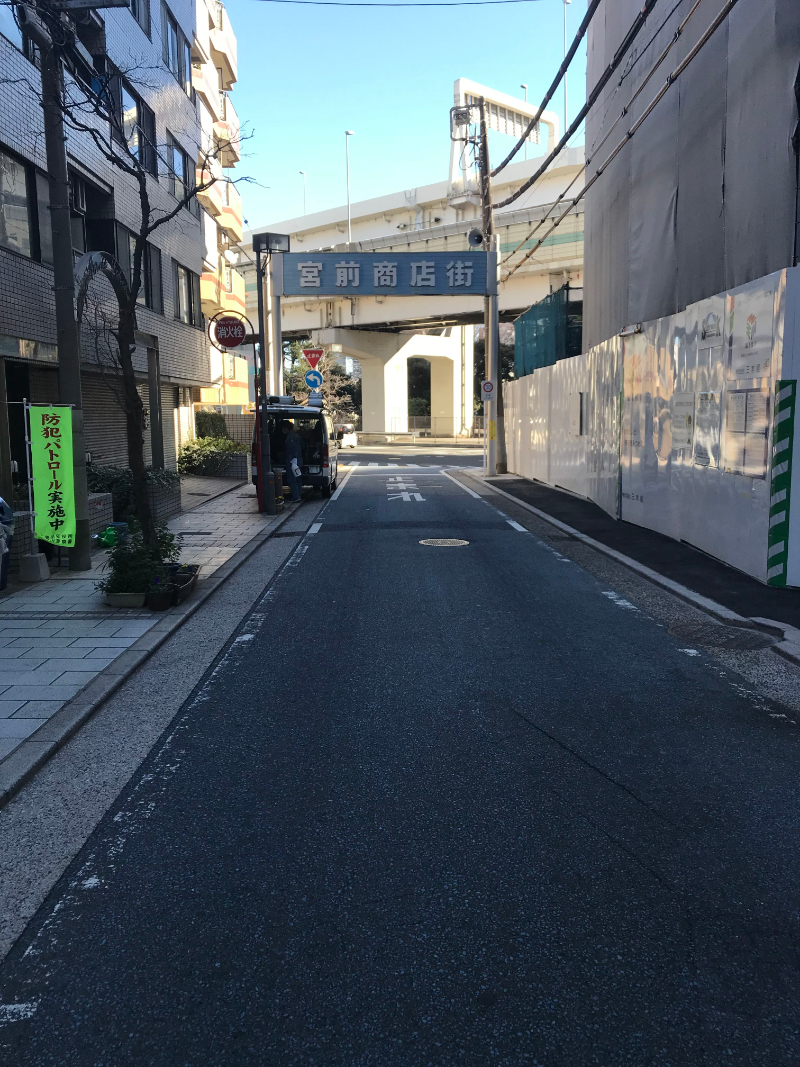STOP: (298, 348, 327, 369)
